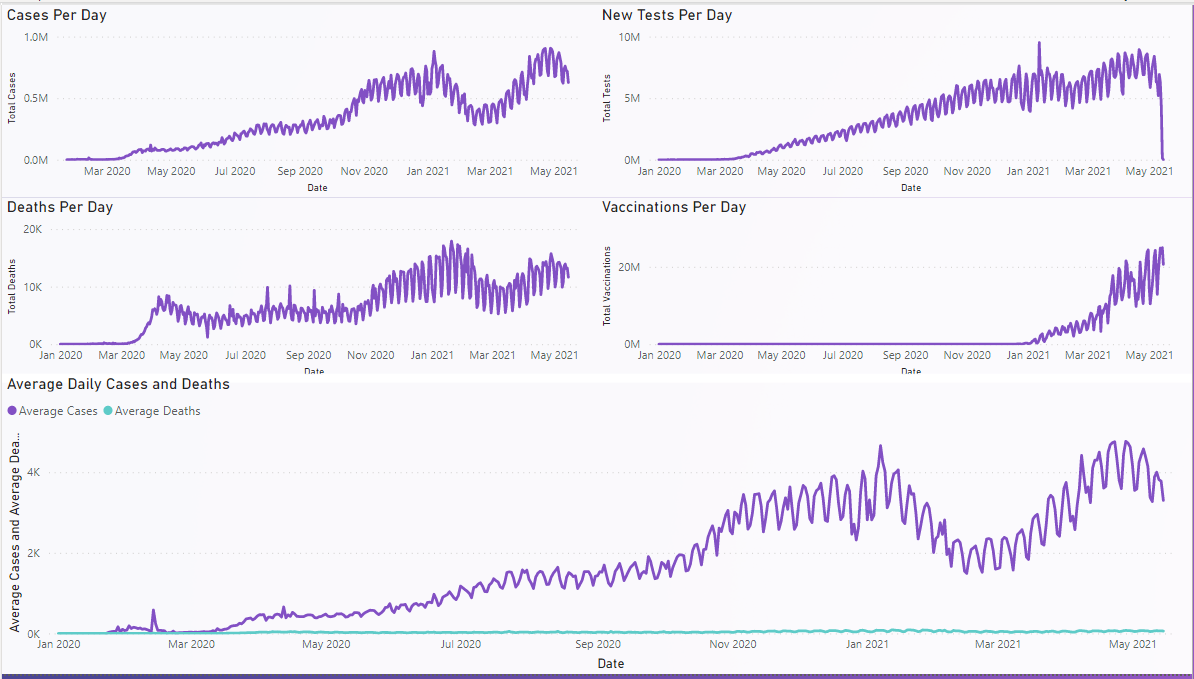

This screenshot's page, from the dashboard's own definition file:
{"tool":"powerbi","page":{"name":"Covid Time Series Viz","canvas":[1280,720],"ordinal":1},"visuals":[{"type":"lineChart","title":"Cases Per Day","fields":{"Category":["dDateGenerateAndRow.Date"],"Y":["Covid Data Visualization.Total Cases"]},"box":[0,0,640,207.1],"z":0},{"type":"lineChart","title":"Deaths Per Day","fields":{"Category":["dDateGenerateAndRow.Date"],"Y":["Covid Data Visualization.Total Deaths"]},"box":[0,207.1,640,199],"z":1000},{"type":"lineChart","title":"New Tests Per Day","fields":{"Category":["dDateGenerateAndRow.Date"],"Y":["Covid Data Visualization.Total Tests"]},"box":[640,0,640,207.1],"z":2000},{"type":"lineChart","title":"Vaccinations Per Day","fields":{"Y":["Covid Data Visualization.Total Vaccinations"],"Category":["dDateGenerateAndRow.Date"]},"box":[640,207.1,640,199],"z":3000},{"type":"lineChart","title":"Average Daily Cases and Deaths","fields":{"Category":["dDateGenerateAndRow.Date"],"Y":["Covid Data Visualization.Average Cases","Covid Data Visualization.Average Deaths"]},"box":[0,396.6,1280,324],"z":4000}]}

Visuals, with their boxes in screenshot pixels (x1, y1, x2, y2), scaled from the page's 1280x720 canvas onto the 1194x679 screenshot:
"Cases Per Day" lineChart: <box>0,0,597,195</box>
"Deaths Per Day" lineChart: <box>0,195,597,383</box>
"New Tests Per Day" lineChart: <box>597,0,1193,195</box>
"Vaccinations Per Day" lineChart: <box>597,195,1193,383</box>
"Average Daily Cases and Deaths" lineChart: <box>0,374,1193,678</box>
